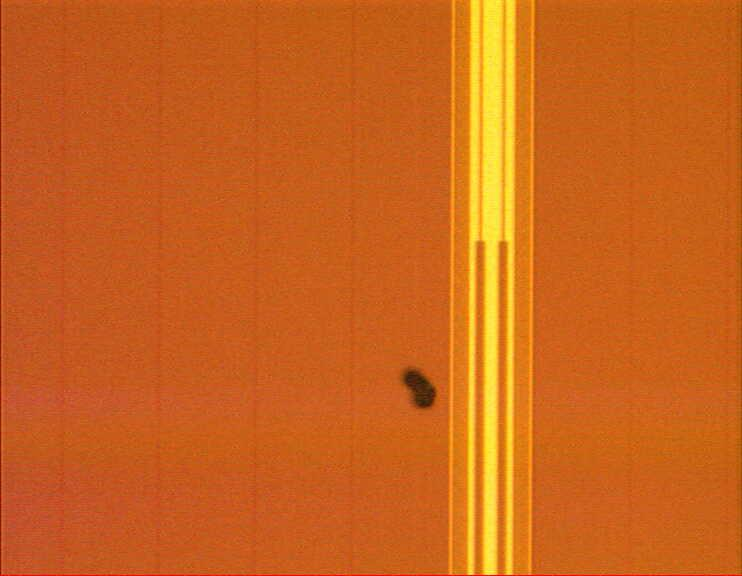PIQ PARTICLE: (400, 362, 442, 413)
